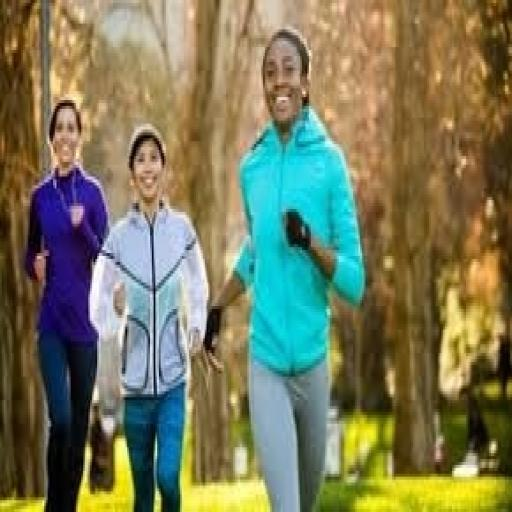running: (203, 24, 369, 509), (88, 121, 214, 509), (21, 94, 111, 509)
